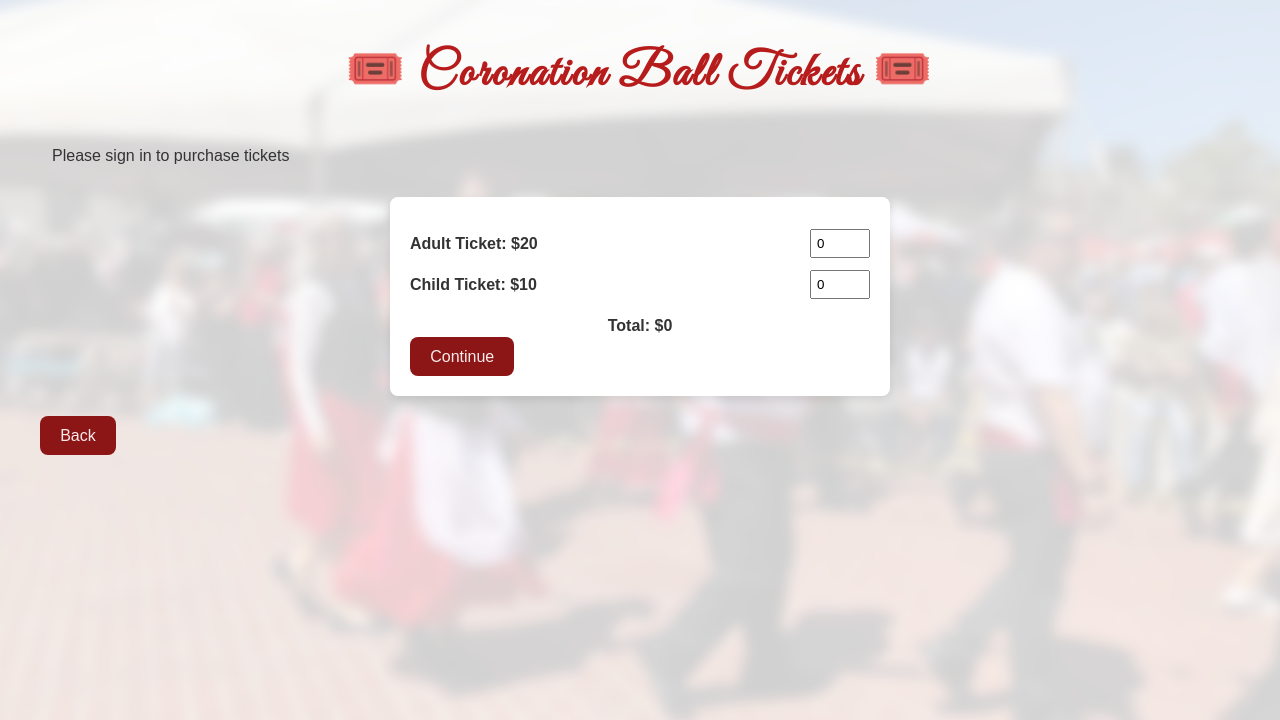
Scenario: CoronationBallTickets (TicketPurchase) › names step rendering › renders one name input per adult ticket
Expected: the button "Continue" is shown, [410,337,514,376]
Replace the text in the number field in the row of "Adult Ticket: $20" with "2" at {"x": 840, "y": 243}, box [810,229,870,258]
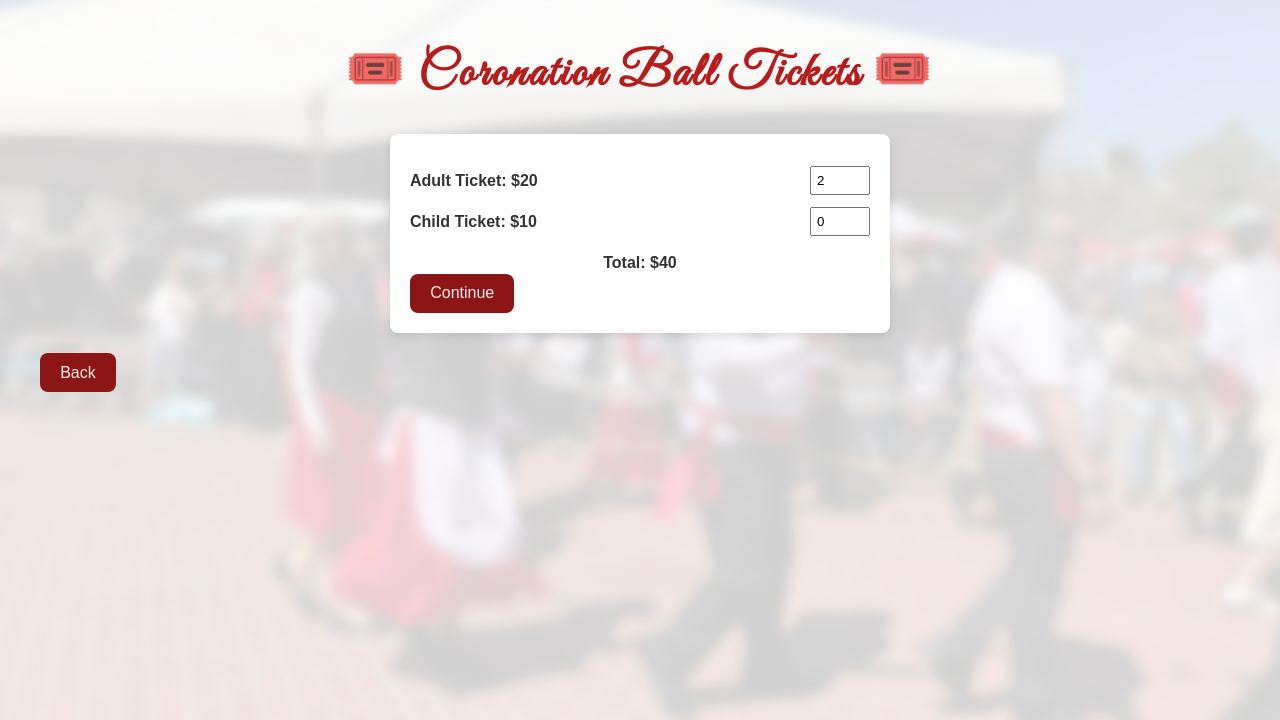
Click the button "Continue" at {"x": 462, "y": 293}, box [410,274,514,313]
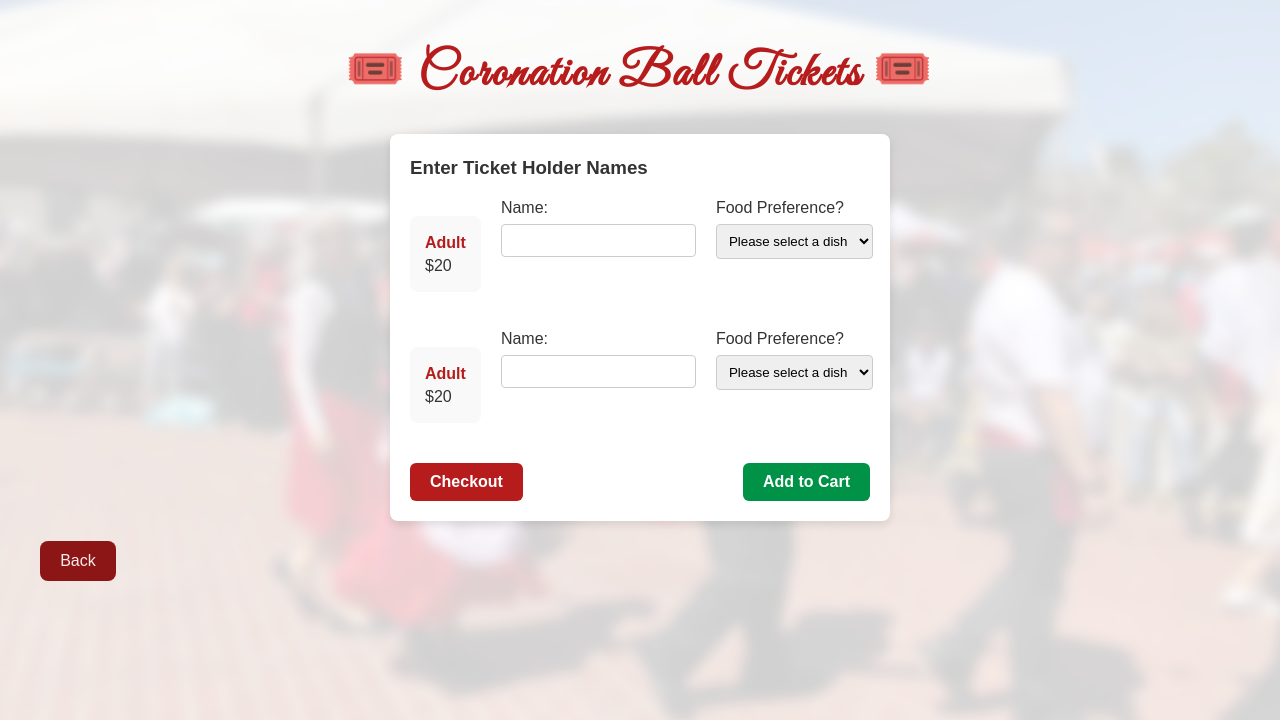
Expected: the heading "Enter Ticket Holder Names" is shown, [410,157,648,178]
Expected: the number of fields with placeholder "Enter name" is 2, [501,224,696,257]; [501,355,696,388]
